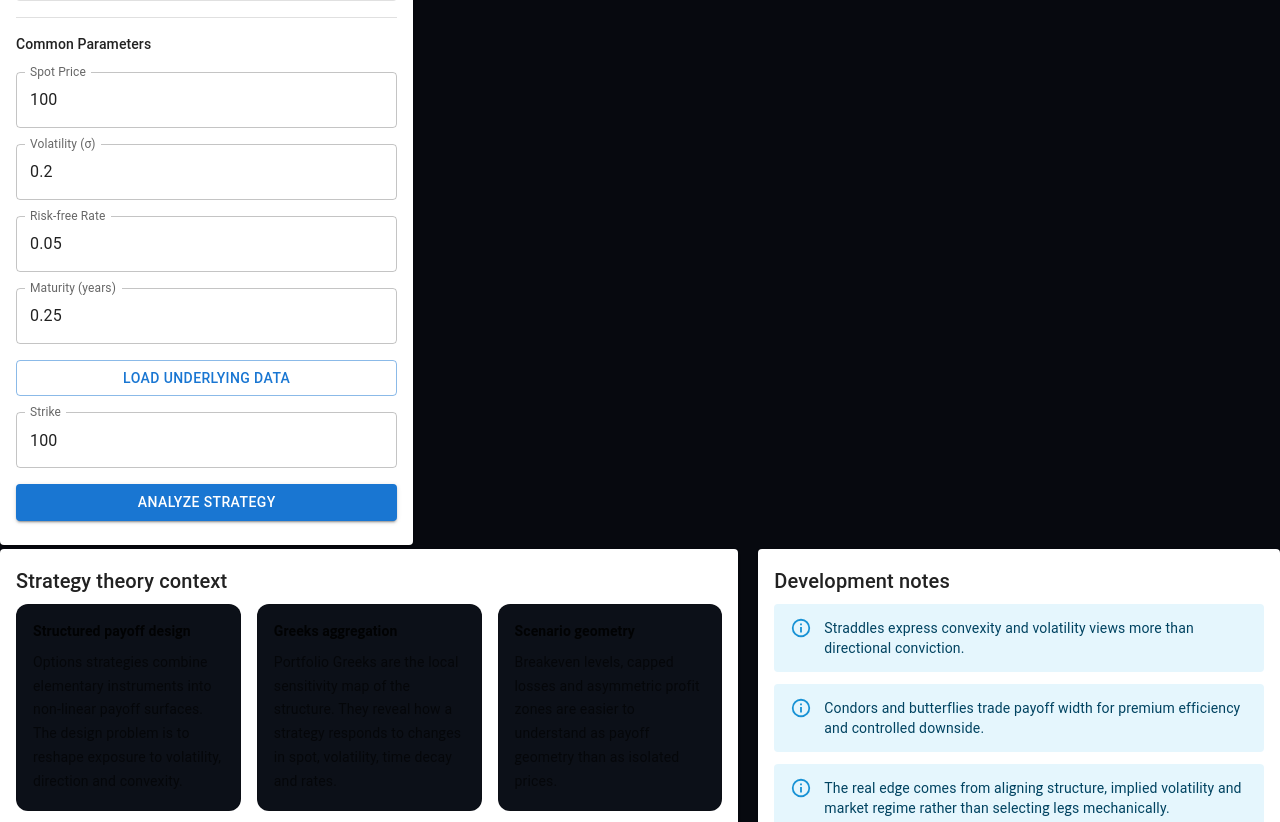
Scenario: StrategiesPage flow › prices a straddle with the strike input
(page scrolled)
Step 1. Click the button "Analyze Strategy" → (207, 503), box [16,484,397,521]
(page scrolled)
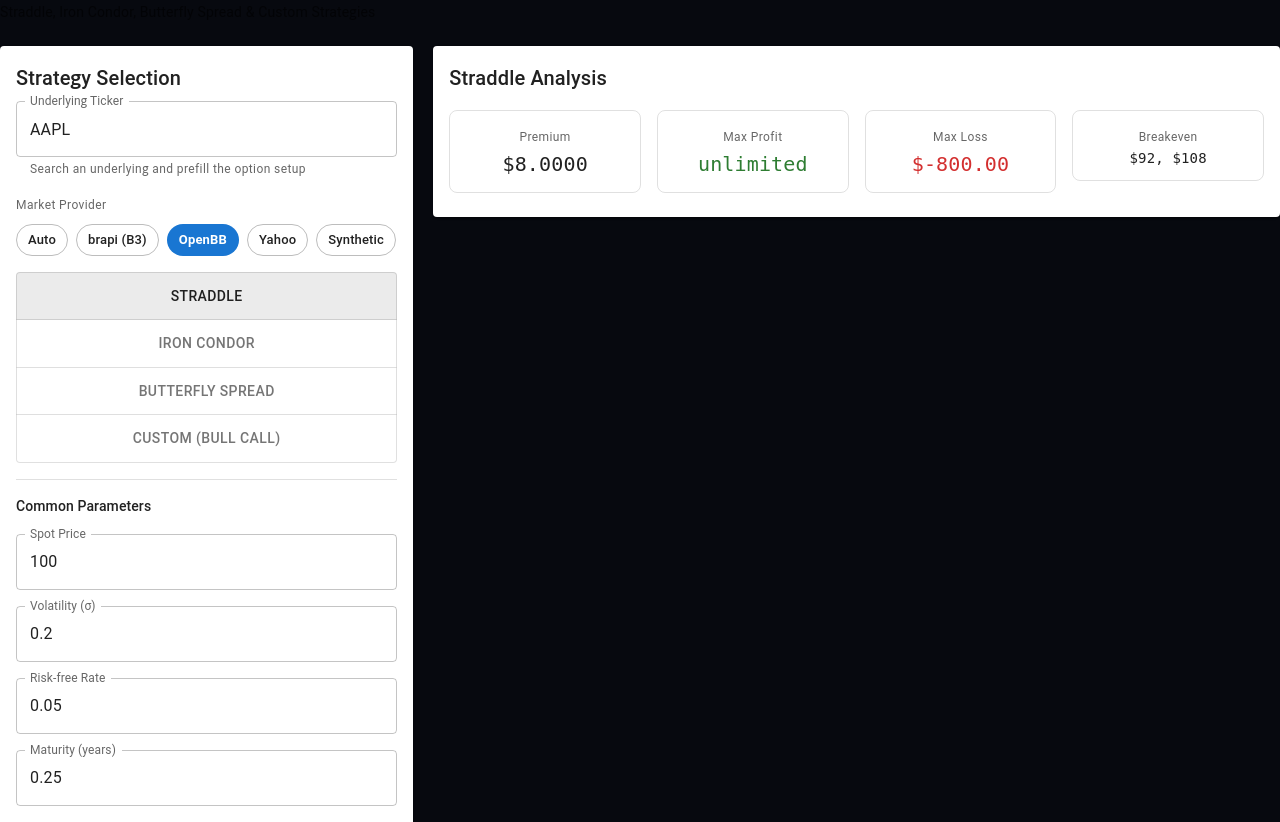
Check: the heading "straddle Analysis" is shown, box [449,62,607,94]
